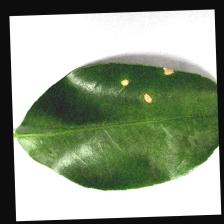canker: (95, 54, 184, 122)
